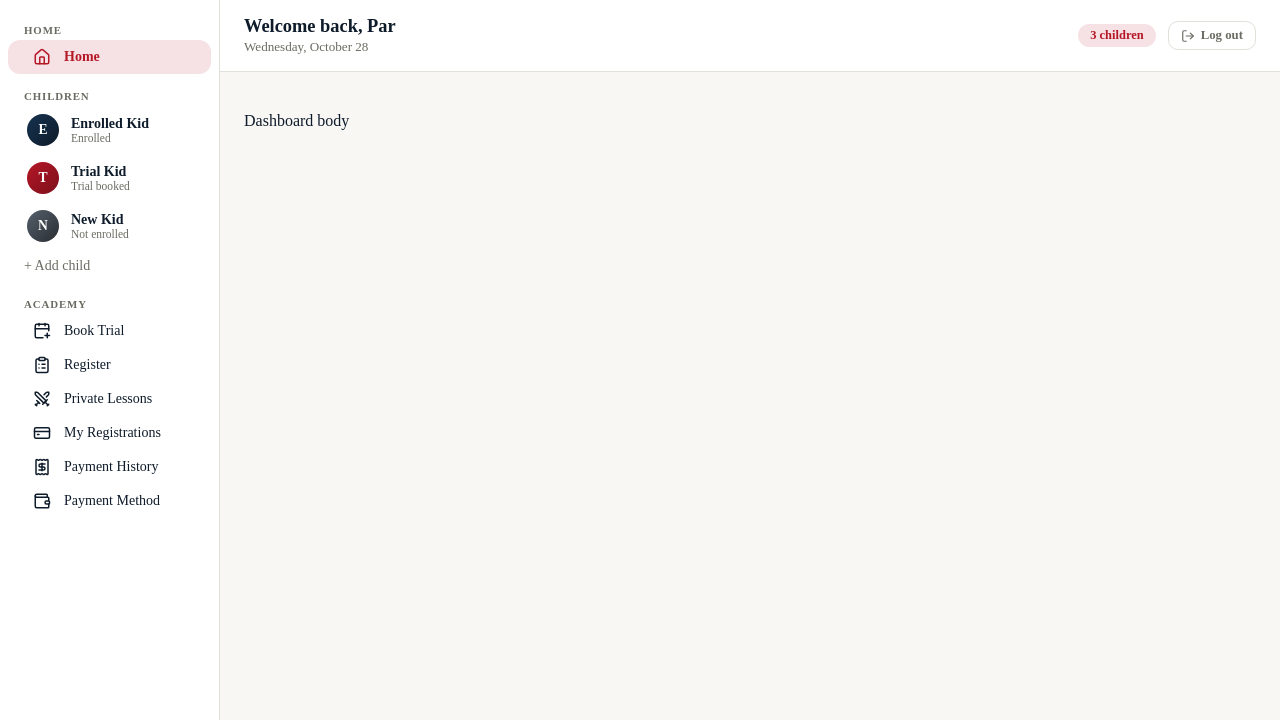
Test: ParentPortalShell › renders a "+ Add child" button that opens the AddChildModal
Expected: the text "Enrolled Kid" is shown, [71,116,149,132]
What coordinates should you click on to do the following:
click the button "+ Add child"
I would click on:
 (110, 266)
Its box is [0,250,219,282].
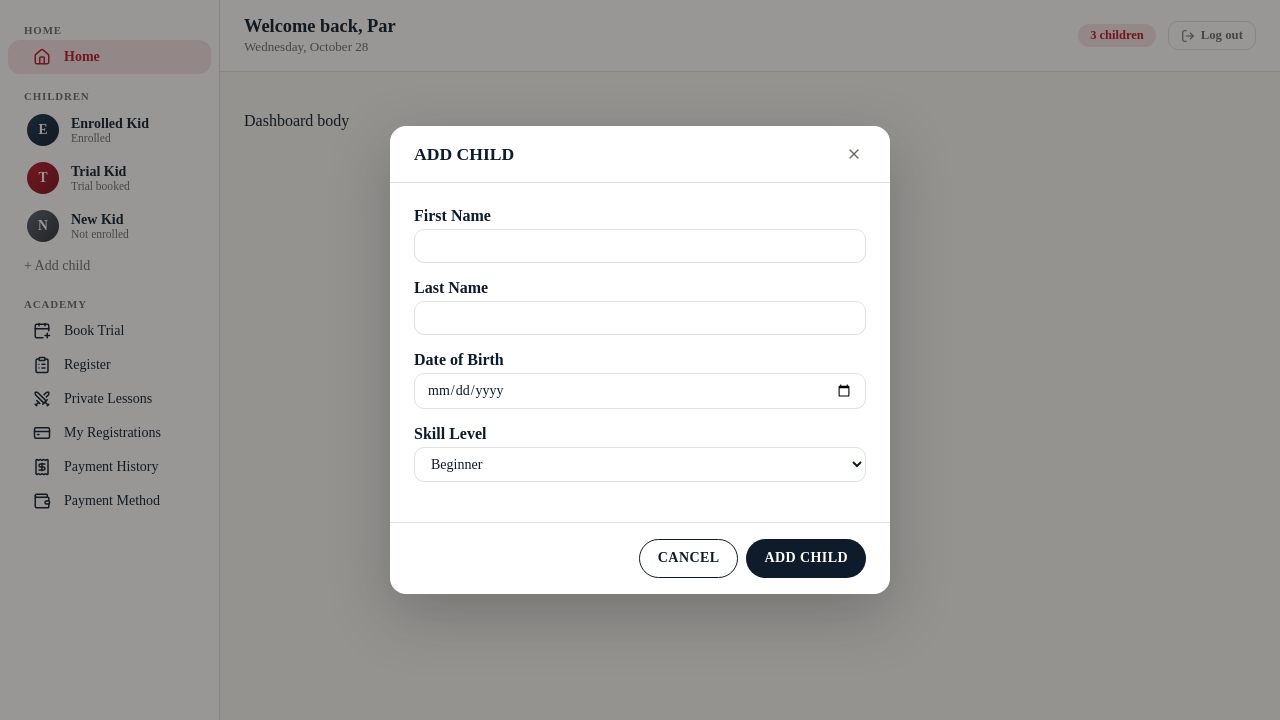
Now the dialog "Add Child" is shown, box [390,126,890,594]
